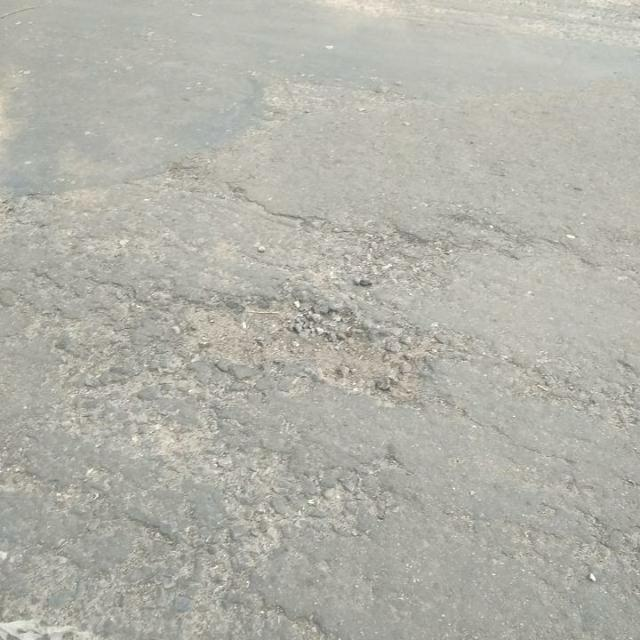Pothole: (173, 290, 432, 412), (305, 215, 430, 288)
